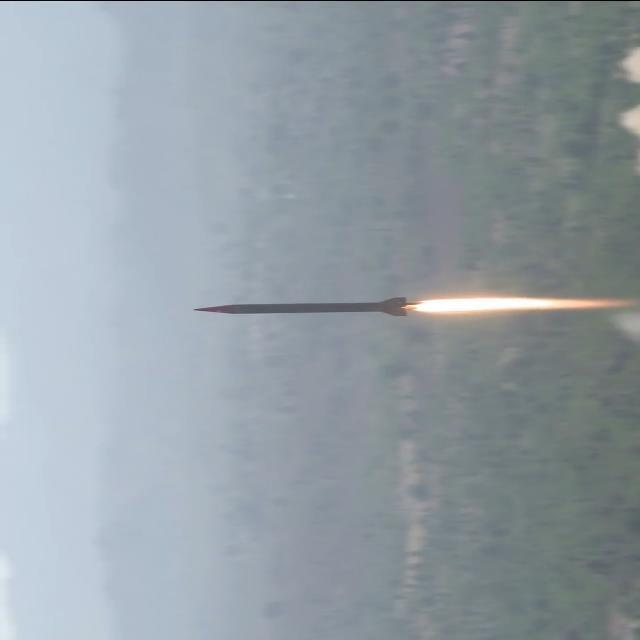missile: (195, 296, 409, 320)
